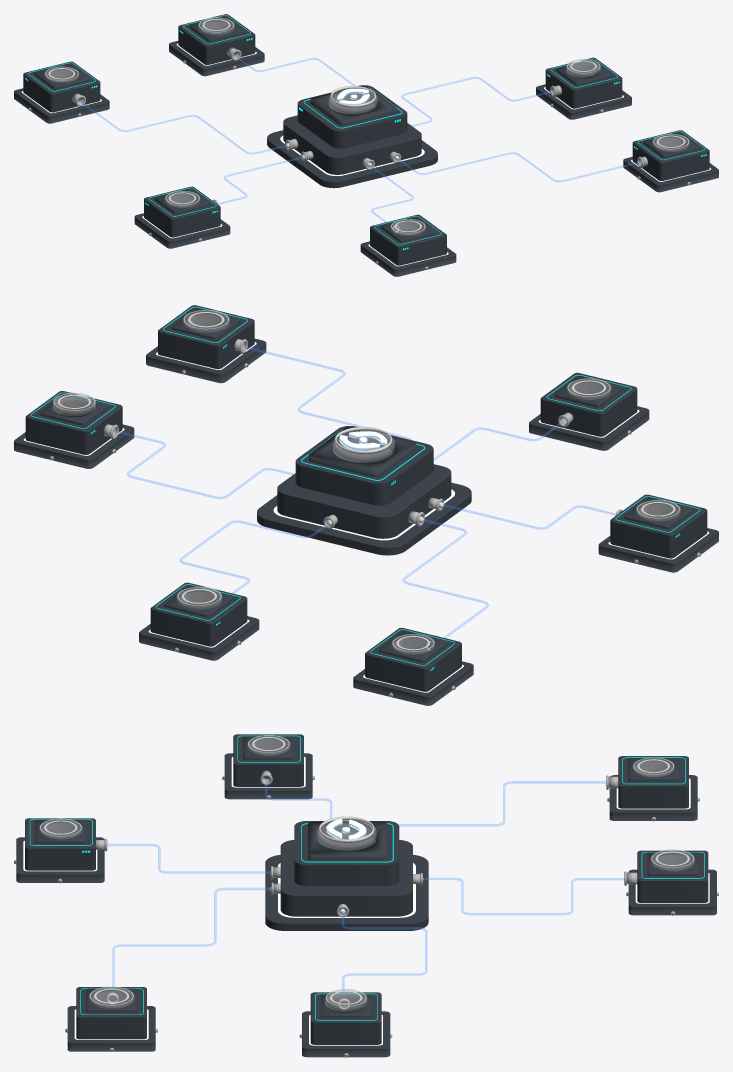
The model's file is Synehcroncity(copy)_newHub(40).glb.
3 views of the same model, one above another, from view 1: azimuth 30°, elevation 25°; view 2: azimuth 150°, elevation 25°; view 3: azimuth 270°, elevation 25° (orthographic). The views are drawn at different scales.
Parts seen in each view (by area): view 1: Main_platform, Sub_platform_CTO_Office, Sub_platform_Ai, Sub_platform_Data, Sub_platform_Cloud_Dev_ops, Sub_platform_payments, Sub_platform_Digital, Cube.014, Glass.002, Glass.005, Glass.010, Glass.008 (+12 smaller); view 2: Main_platform, Sub_platform_CTO_Office, Sub_platform_Digital, Sub_platform_payments, Sub_platform_Ai, Sub_platform_Data, Sub_platform_Cloud_Dev_ops, Cube.014, Glass.002, Glass.005, Glass.010, Platformm_2.006 (+12 smaller); view 3: Main_platform, Sub_platform_Cloud_Dev_ops, Sub_platform_CTO_Office, Sub_platform_Digital, Sub_platform_Ai, Sub_platform_Data, Sub_platform_payments, Cube.014, Glass.008, Glass.002, Glass.005, Glass.010 (+13 smaller).
Part boxes in pixels (bbox=[...]): Main_platform: bbox=[267, 85, 437, 188]; Sub_platform_CTO_Office: bbox=[134, 186, 230, 248]; Sub_platform_Ai: bbox=[360, 214, 456, 276]; Sub_platform_Data: bbox=[623, 130, 718, 192]; Sub_platform_Cloud_Dev_ops: bbox=[536, 57, 631, 119]; Sub_platform_payments: bbox=[14, 61, 109, 123]; Sub_platform_Digital: bbox=[169, 14, 264, 76]; Cube.014: bbox=[310, 85, 395, 125]; Glass.002: bbox=[652, 134, 689, 151]; Glass.005: bbox=[198, 17, 234, 35]; Glass.010: bbox=[566, 59, 600, 77]; Glass.008: bbox=[329, 90, 377, 113]; Main_platform: bbox=[257, 426, 471, 555]; Sub_platform_CTO_Office: bbox=[598, 494, 718, 572]; Sub_platform_Digital: bbox=[139, 582, 259, 660]; Sub_platform_payments: bbox=[353, 627, 473, 705]; Sub_platform_Ai: bbox=[529, 372, 649, 450]; Sub_platform_Data: bbox=[146, 305, 266, 383]; Sub_platform_Cloud_Dev_ops: bbox=[14, 391, 134, 468]; Cube.014: bbox=[308, 427, 416, 477]; Glass.002: bbox=[183, 310, 229, 332]; Glass.005: bbox=[177, 587, 221, 609]; Glass.010: bbox=[53, 393, 95, 415]; Platformm_2.006: bbox=[554, 376, 623, 407]; Main_platform: bbox=[265, 821, 428, 930]; Sub_platform_Cloud_Dev_ops: bbox=[302, 992, 390, 1057]; Sub_platform_CTO_Office: bbox=[224, 734, 312, 799]; Sub_platform_Digital: bbox=[628, 850, 716, 915]; Sub_platform_Ai: bbox=[16, 818, 104, 882]; Sub_platform_Data: bbox=[67, 987, 155, 1051]; Sub_platform_payments: bbox=[609, 756, 697, 820]; Cube.014: bbox=[308, 821, 387, 860]; Glass.008: bbox=[317, 820, 376, 850]; Glass.002: bbox=[89, 987, 133, 1008]; Glass.005: bbox=[651, 849, 694, 871]; Glass.010: bbox=[325, 989, 366, 1011].
Bounding box in the file's own units: 34.81 × 4.01 × 34.91.
